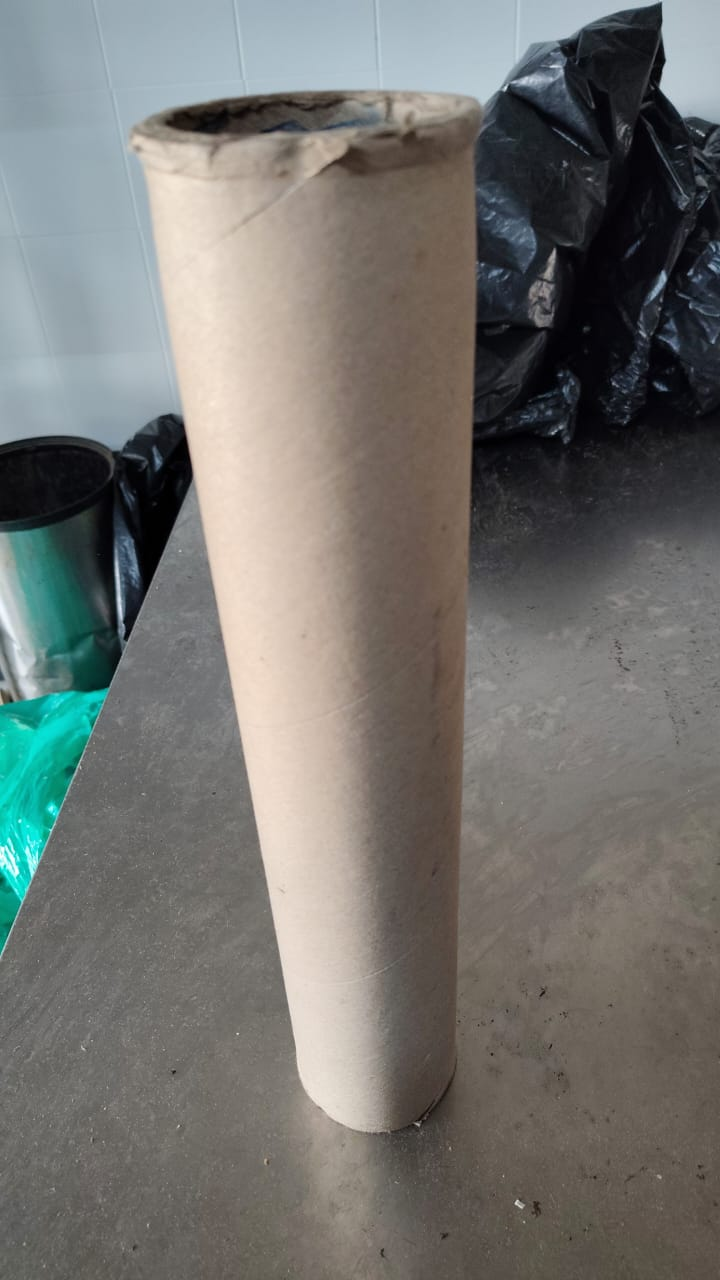Carton: (129, 89, 482, 1132)
